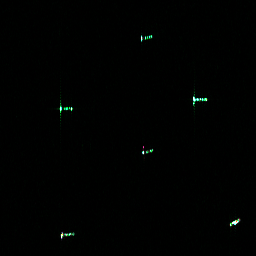ship: (227, 215, 243, 228), (139, 145, 155, 156), (191, 94, 208, 104), (138, 32, 155, 41), (59, 230, 76, 239), (58, 104, 74, 112)
